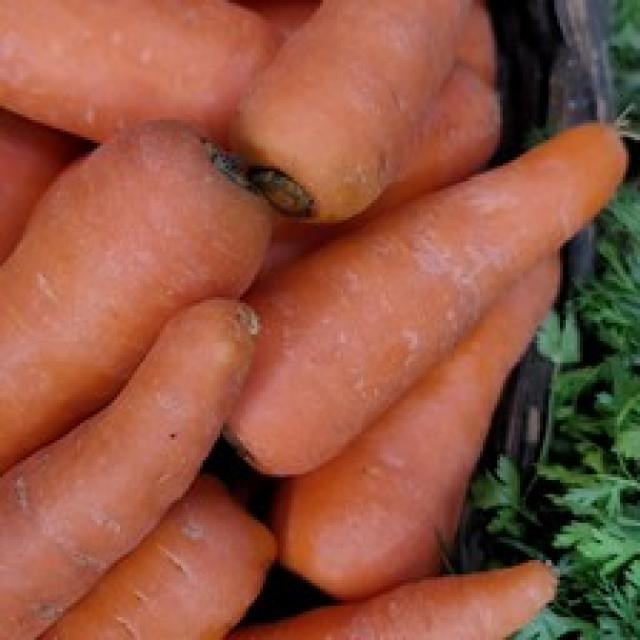Fresh_Carrot: (229, 119, 629, 476), (0, 298, 253, 640)
